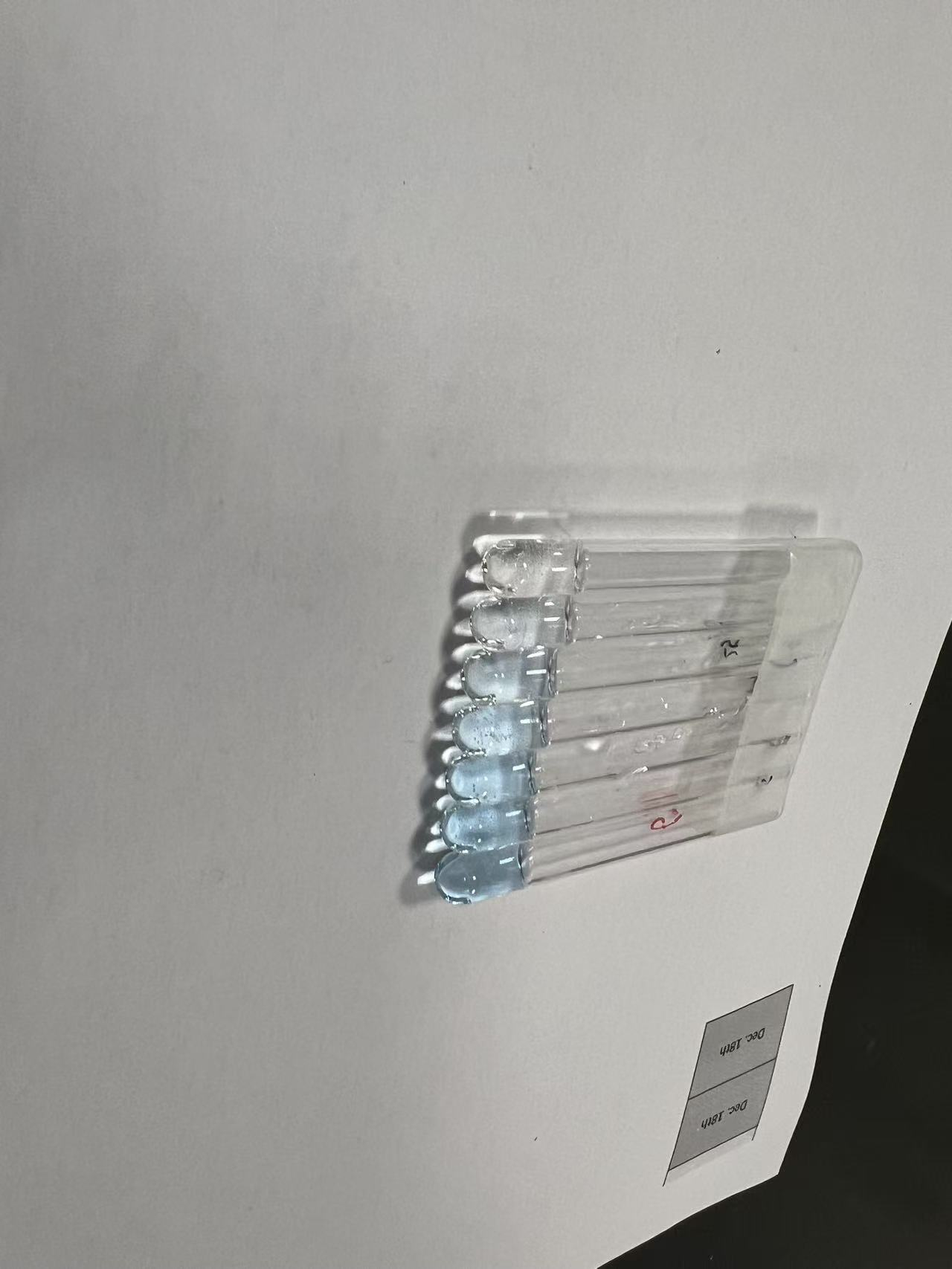drop: (483, 539, 589, 601), (469, 597, 581, 652), (433, 849, 535, 905), (452, 700, 554, 755), (459, 648, 560, 703), (441, 799, 543, 853), (446, 752, 541, 804)
